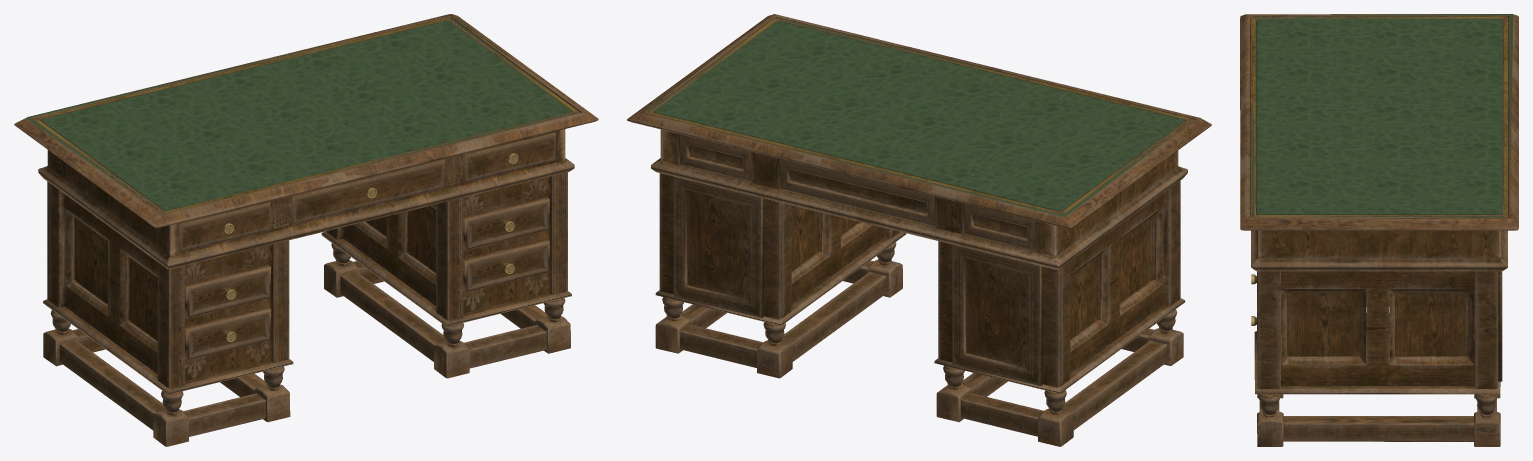
The model's file is DeskObj.fbx.
The picture shows the model from 3 angles, left to right: view 1: azimuth 30°, elevation 25°; view 2: azimuth 150°, elevation 25°; view 3: azimuth 270°, elevation 25°; orthographic projection.
Visible parts, largest first — view 1: Desk, Drawer1, Drawer3, Drawer2; view 2: Desk; view 3: Desk.
Part boxes in pixels (box(x1,y1,x2,y2)): Desk: box(14, 14, 598, 446); Drawer1: box(254, 147, 444, 224); Drawer3: box(179, 191, 270, 251); Drawer2: box(425, 120, 555, 182); Desk: box(627, 14, 1211, 446); Desk: box(1240, 14, 1518, 446).
Size of what is drawn, in the model's own units: 1.73 by 0.9544 by 0.881.
1 material, 1 textured.
